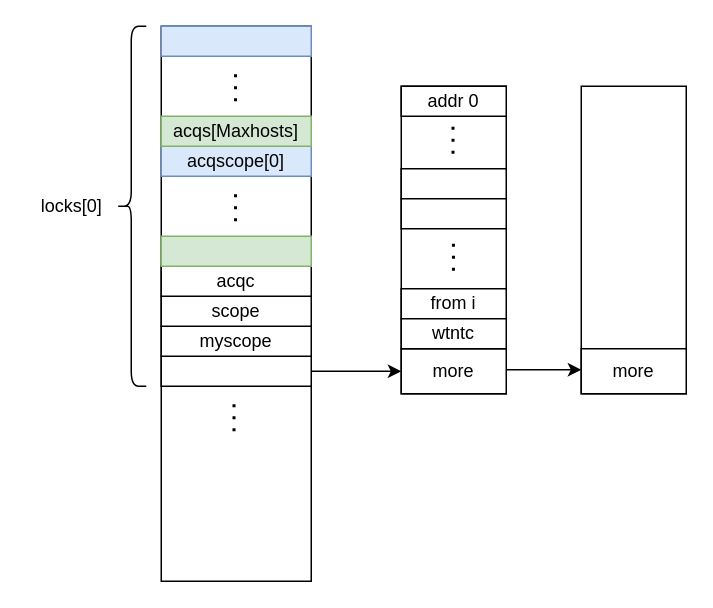
Image size: 713x608. Some labels were removed from this diagram. The centre of each missing label's shape, as x and y in pixels:
acqs[0]: [235,40]
acqscope[Maxhosts]: [235,250]
addr i: [453,183]
from 0: [453,213]
wtntp: [235,370]
